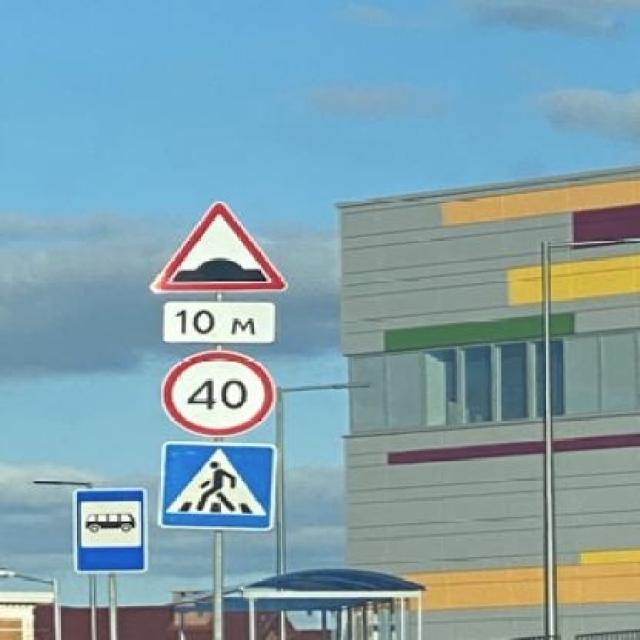forb_speed_over_40: (168, 353, 275, 436)
